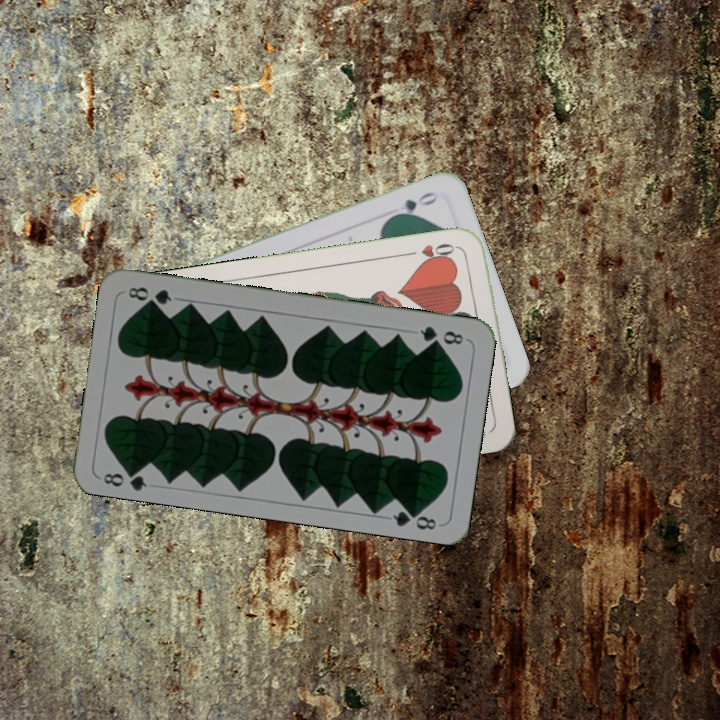G8: (99, 463, 150, 493), (416, 322, 466, 348)
GO: (387, 188, 441, 221)
HO: (402, 239, 462, 267)
